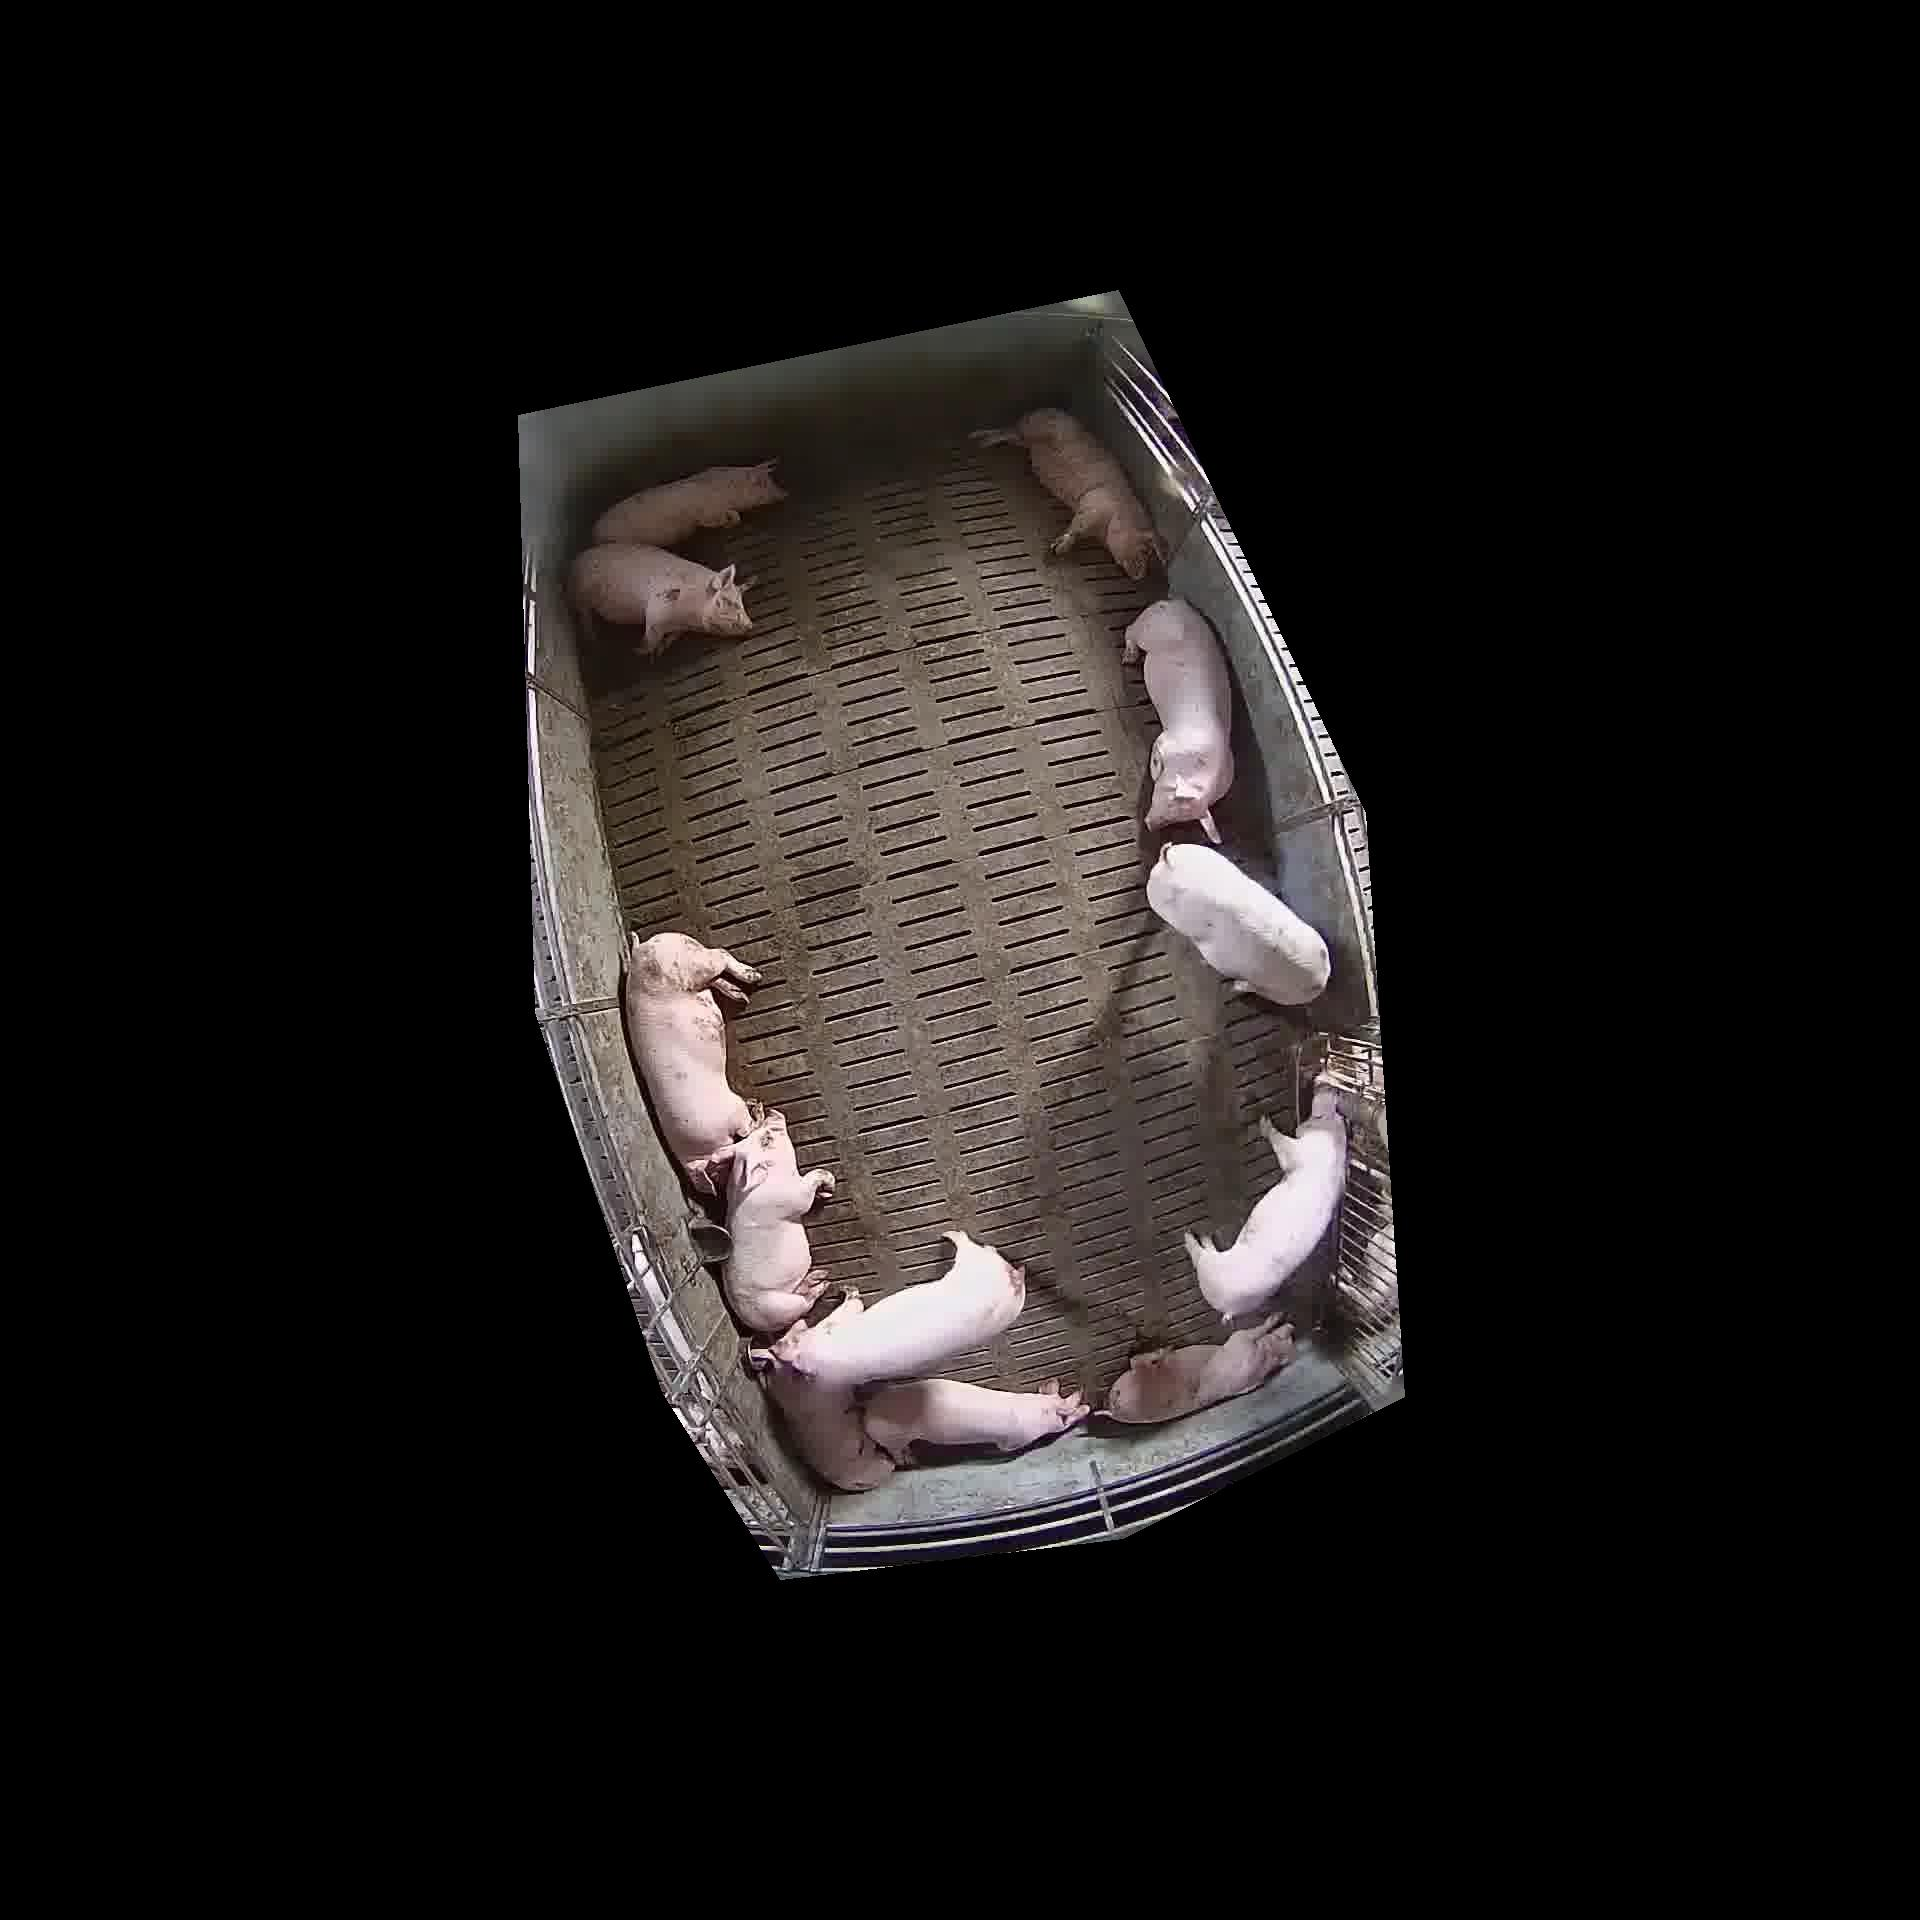pig: (768, 1231, 1025, 1387), (1187, 1088, 1347, 1319), (624, 934, 760, 1194), (971, 408, 1160, 578), (1146, 844, 1329, 1004), (1125, 598, 1233, 844), (723, 1111, 833, 1333), (1108, 1315, 1296, 1422), (749, 1347, 891, 1486), (570, 543, 751, 652), (863, 1378, 1088, 1463), (593, 461, 784, 547)
